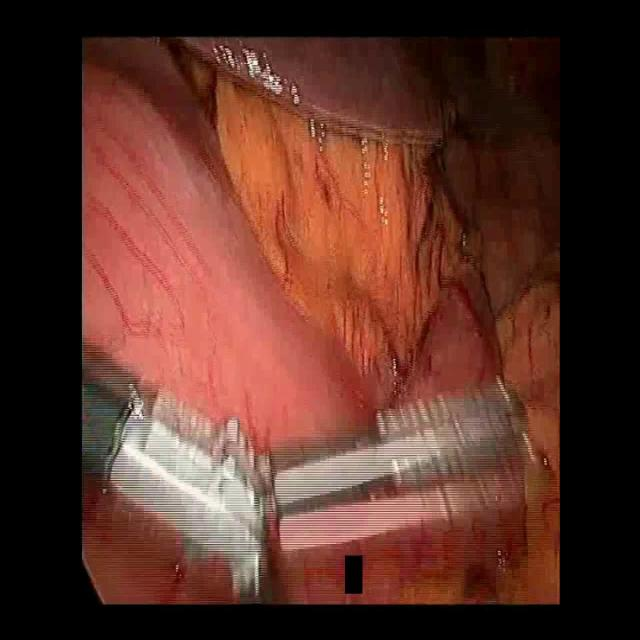surgical-area: (80, 34, 560, 607)
surgical-tool: (80, 336, 528, 599)
